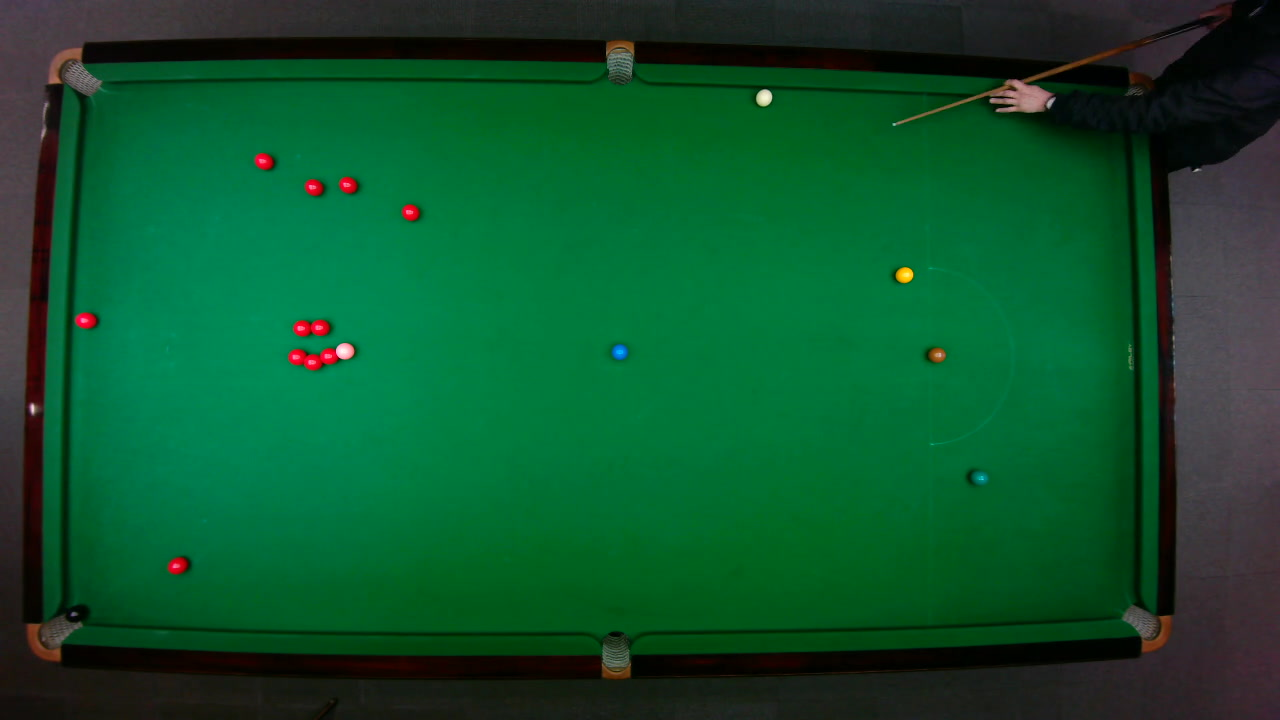bag: (25, 609, 82, 661), (46, 46, 102, 96), (1119, 603, 1171, 652), (600, 629, 629, 680), (605, 38, 633, 85)
black: (64, 605, 85, 622)
blue: (610, 342, 628, 360)
brown: (926, 346, 946, 362)
cue: (891, 1, 1235, 128)
green: (969, 468, 989, 485)
pink: (334, 341, 355, 360)
red: (165, 555, 189, 575), (73, 310, 97, 329), (302, 177, 324, 196), (253, 151, 274, 170), (308, 317, 330, 335), (286, 347, 306, 366), (337, 175, 358, 193), (302, 352, 323, 370), (400, 203, 420, 221), (291, 318, 311, 336), (319, 346, 337, 365)
white: (753, 88, 773, 107)
yellow: (893, 265, 914, 283)
zone: (927, 266, 1013, 445)
